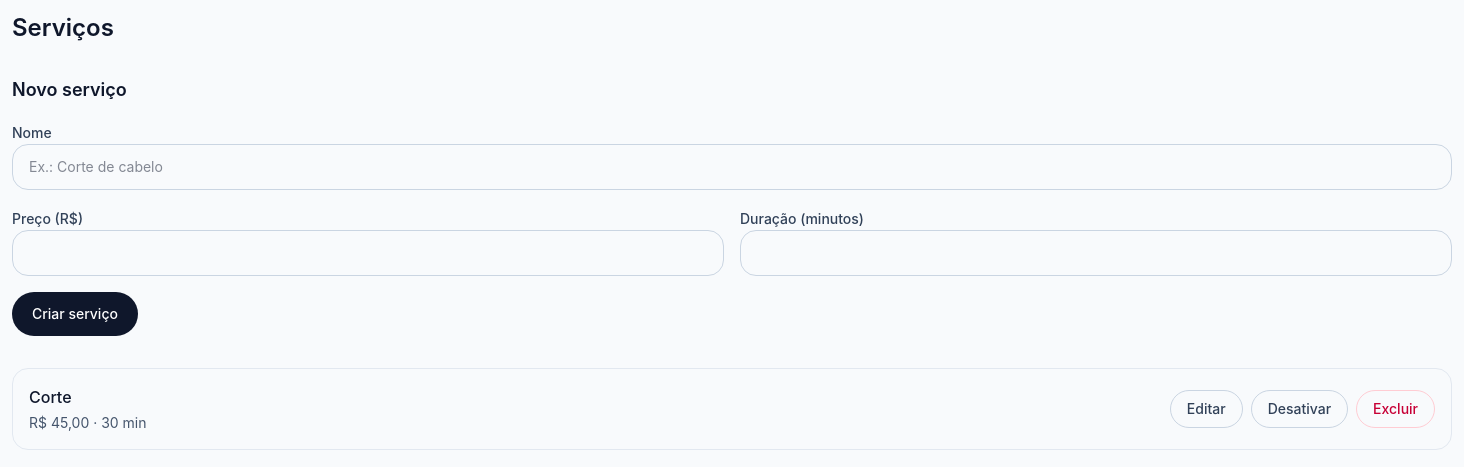
Test: services manager (mounted, injected fetch deps) › deactivates a service: PUTs {active:false} and marks it inactive in the list
Click the button "Desativar" at x=1299, y=409, box [1251,390,1348,428]
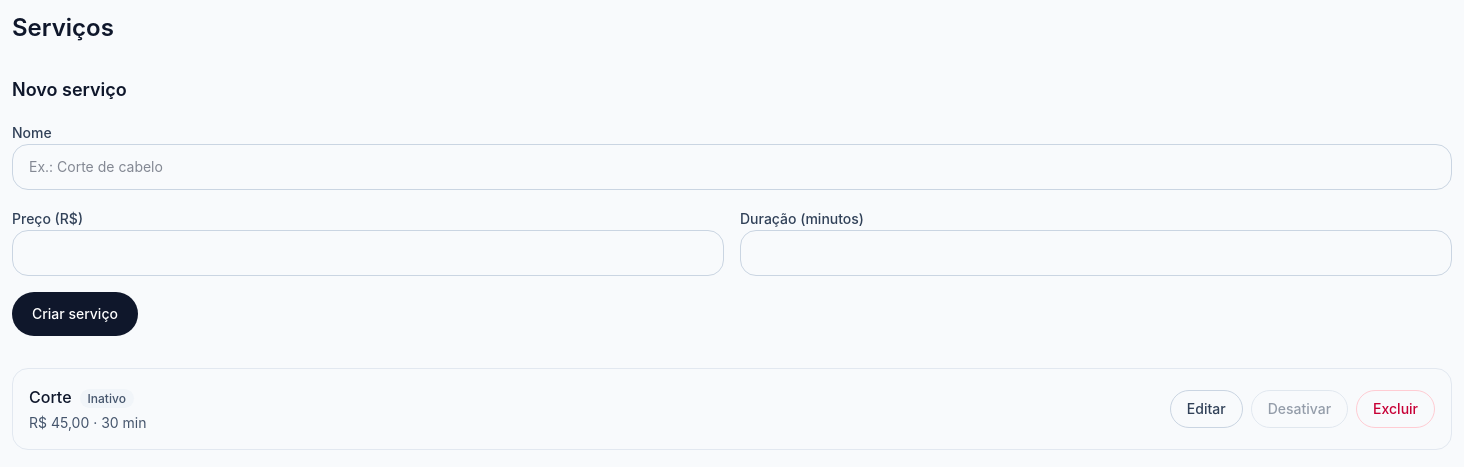
Expected: the text "Inativo" is shown, [80,389,134,408]
